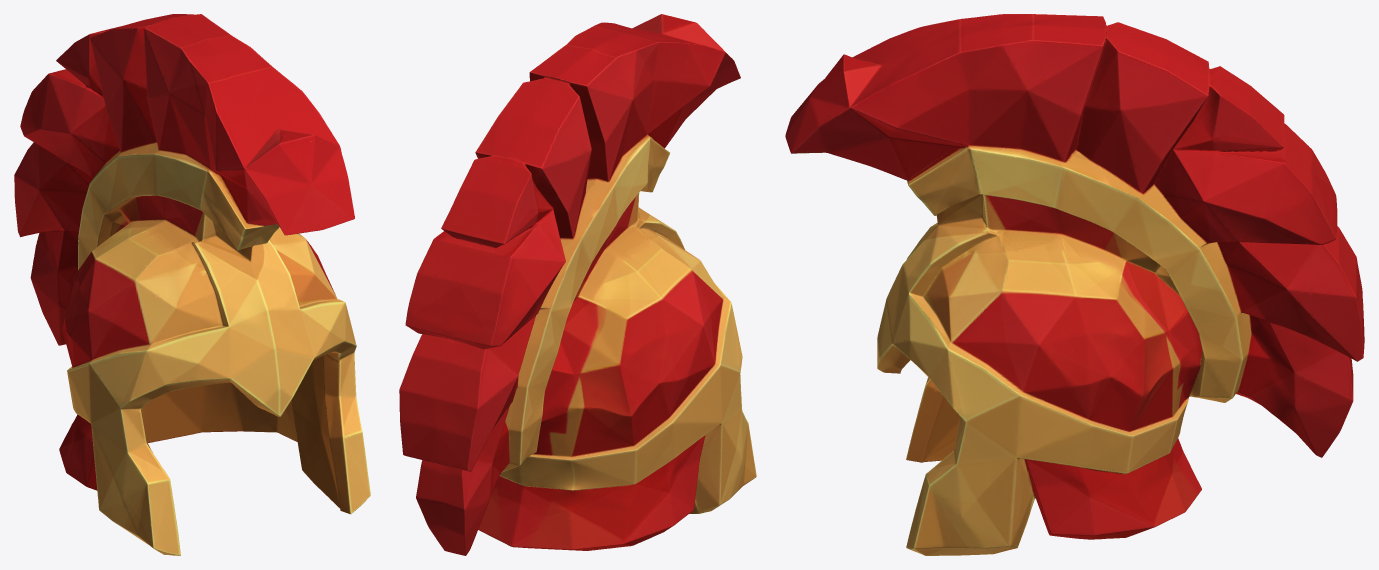
The model's file is warrior_helmet.glb.
The picture shows the model from 3 angles, left to right: view 1: azimuth 30°, elevation 25°; view 2: azimuth 150°, elevation 25°; view 3: azimuth 270°, elevation 25°; orthographic projection. The views are drawn at different scales.
Bounding box in the file's own units: 0.9847 × 1.75 × 1.9.
Materials: 1 (1 with a texture image).
